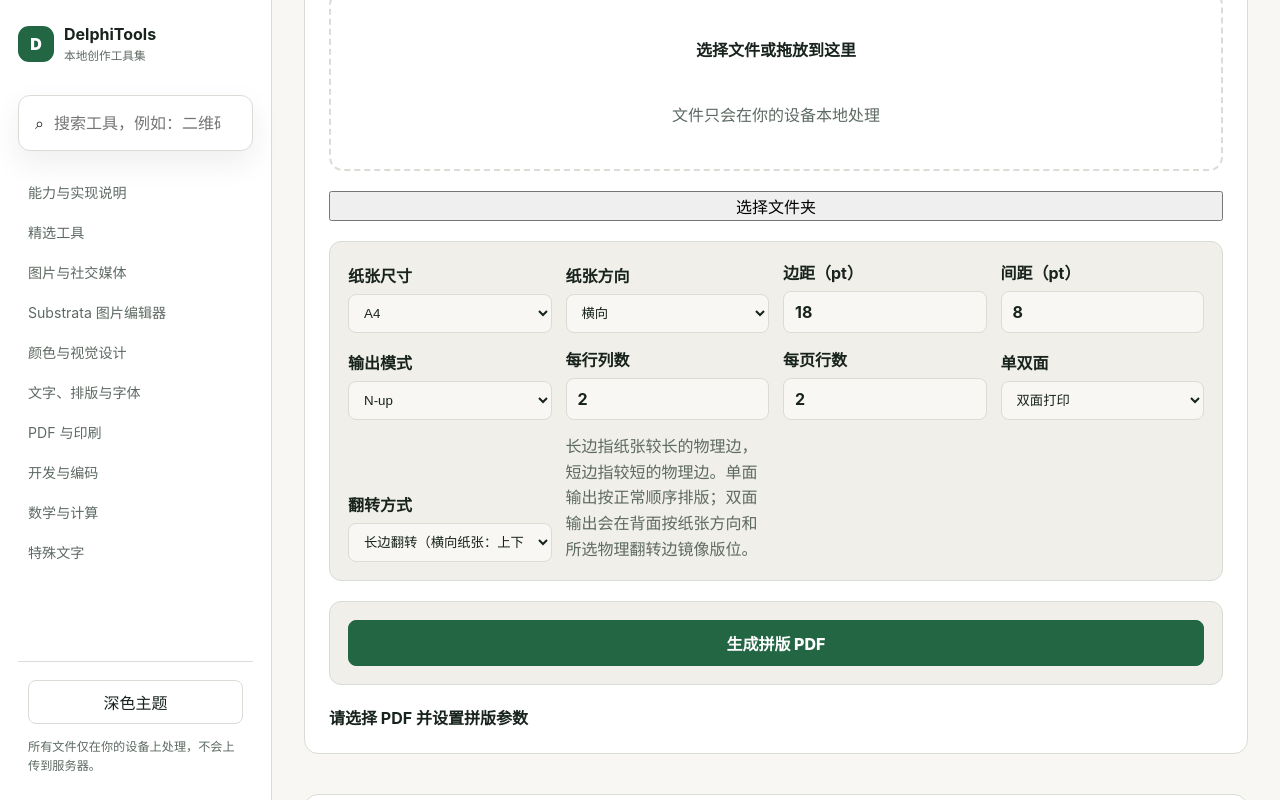
Test: 六条高级媒体路由 › 小册子模式固定双面并只保留有实际作用的翻转设置
The image size is (1280, 800).
(page scrolled)
Select "小册子 / 骑马订" in the dropdown labelled "输出模式" at [450, 401], box [348,381,552,420]
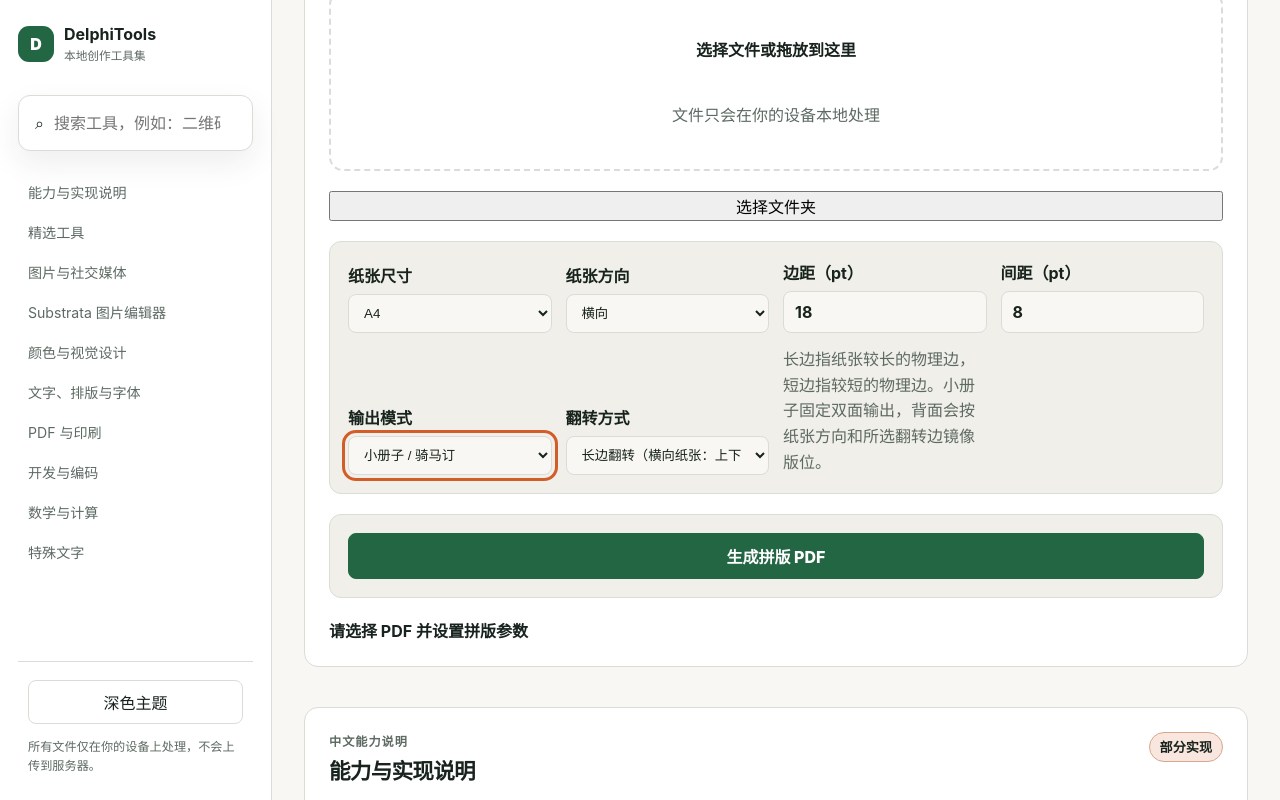
Expected: the dropdown labelled "翻转方式" is shown, [566,436,769,475]
Expected: the label labelled "单双面" is gone
Expected: the text "长边指纸张较长的物理边，短边指较短的物理边。小册子固定双面输出，背面会按纸张方向和所选翻转边镜像版位。" is shown, [783,347,986,475]
